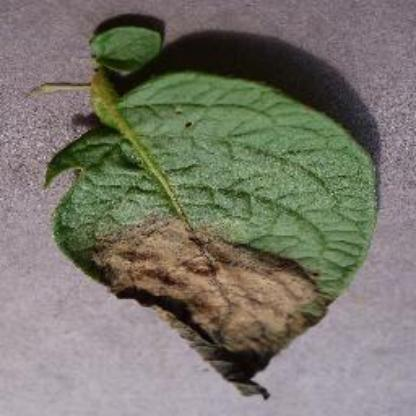Late-Blight: (21, 24, 389, 398)
